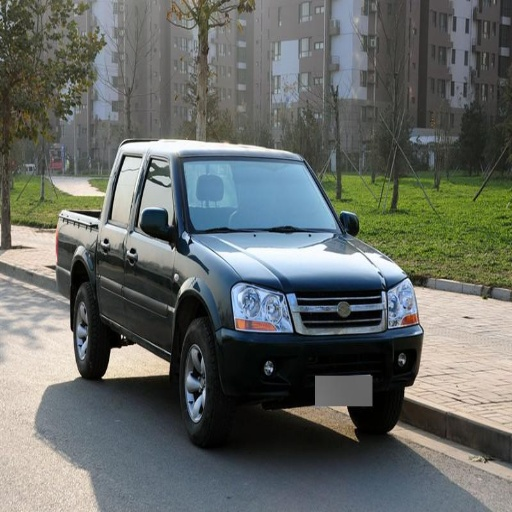back_left_light: (97, 150, 146, 325)
back_right_light: (218, 287, 423, 406)
front_bumper: (179, 155, 340, 232)
front_left_door: (387, 279, 418, 327)
front_left_light: (125, 154, 180, 346)
front_right_door: (233, 282, 291, 331)
front_right_light: (206, 232, 404, 294)
trunk: (176, 320, 237, 445), (72, 284, 109, 378), (351, 383, 401, 436)
